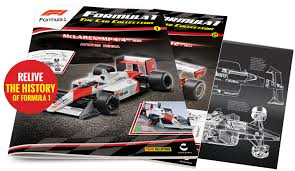FormulaOneCar: (41, 48, 176, 122)
